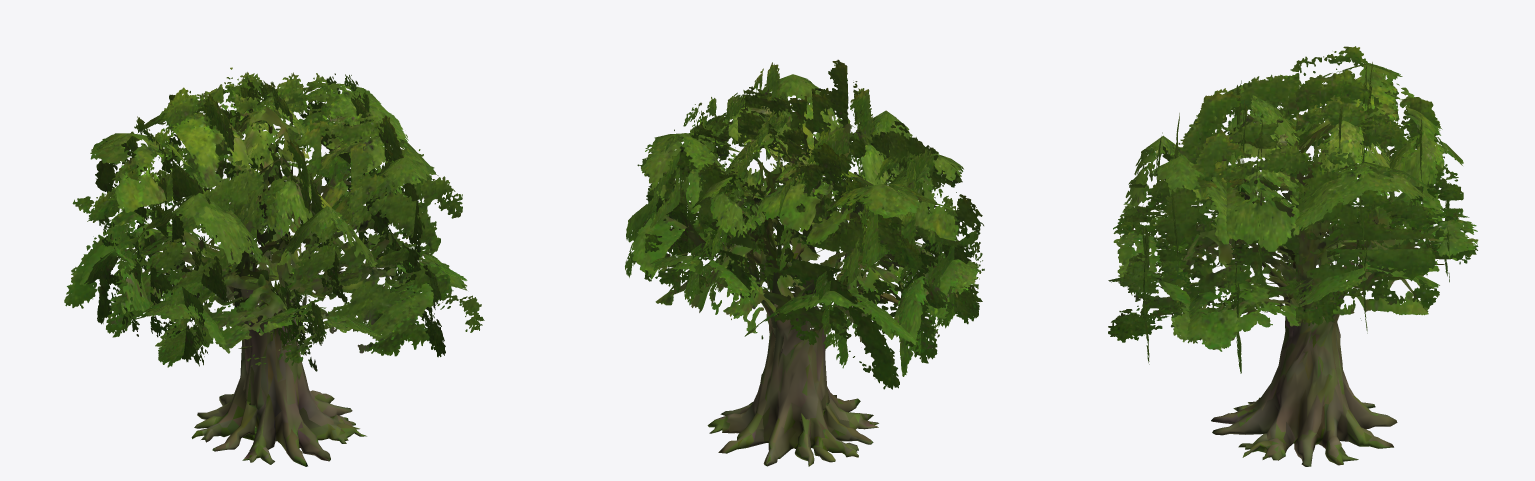
Rendered from tree-1521-mid.glb.
3 renders of one model, left to right at view 1: azimuth 30°, elevation 25°; view 2: azimuth 150°, elevation 25°; view 3: azimuth 270°, elevation 25°, orthographic. The views are drawn at different scales.
Parts seen in each view (by area): view 1: Foliage, Wood; view 2: Foliage, Wood; view 3: Foliage, Wood.
Boxes of the visible parts, x1=… form: Foliage: x1=64, y1=67, x2=484, y2=371; Wood: x1=183, y1=115, x2=385, y2=466; Foliage: x1=625, y1=59, x2=984, y2=389; Wood: x1=707, y1=106, x2=899, y2=466; Foliage: x1=1108, y1=46, x2=1478, y2=373; Wood: x1=1158, y1=133, x2=1444, y2=466.
Size of the model in its own units: 14.12 by 12.65 by 14.33.
2 materials, 2 textured.
